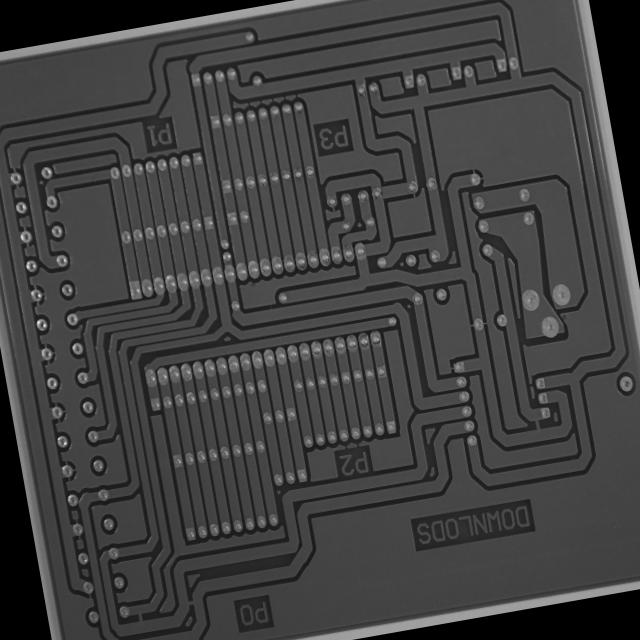short: (522, 402, 552, 440), (125, 600, 152, 632), (176, 588, 202, 616)
